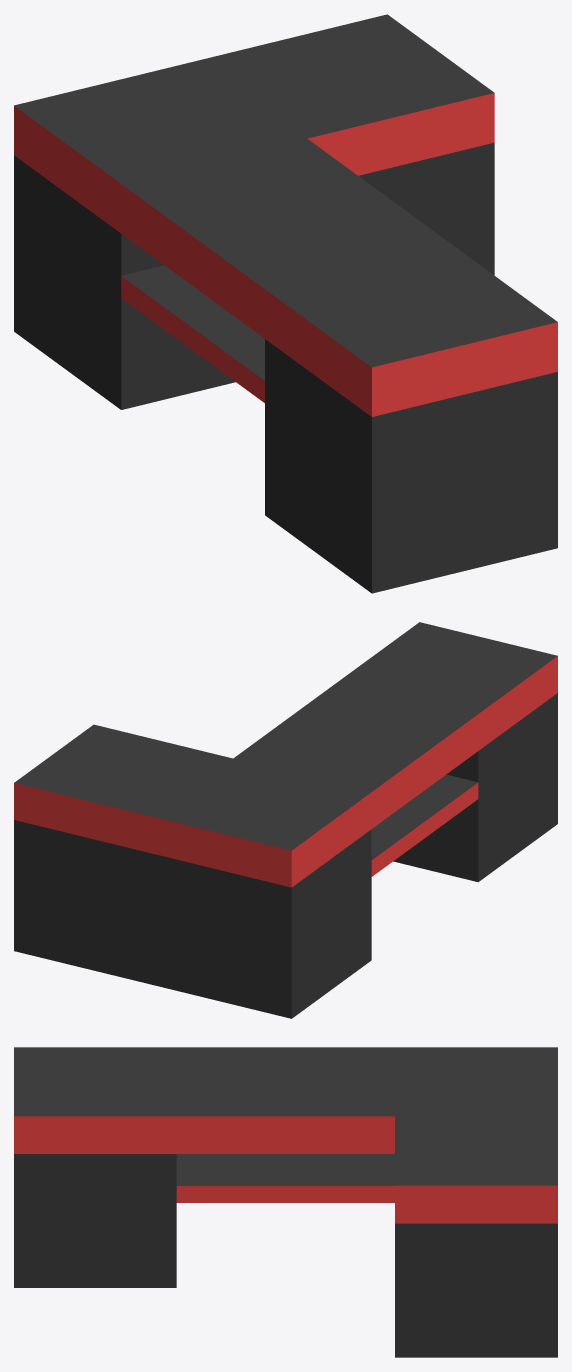
File: cashiertable.obj
3 renders of one model, top to bottom at view 1: azimuth 30°, elevation 25°; view 2: azimuth 150°, elevation 25°; view 3: azimuth 270°, elevation 25°, orthographic. The views are drawn at different scales.
Visible parts, largest first — view 1: SuperMarket:pCube1; view 2: SuperMarket:pCube1; view 3: SuperMarket:pCube1.
Part boxes in pixels (x1,y1,x2,y2): SuperMarket:pCube1: [14, 14, 557, 593]; SuperMarket:pCube1: [14, 622, 557, 1018]; SuperMarket:pCube1: [14, 1047, 557, 1357].
Size of the model in its own units: 6.01 by 3.48 by 9.98.
Materials: 1 (1 with a texture image).
